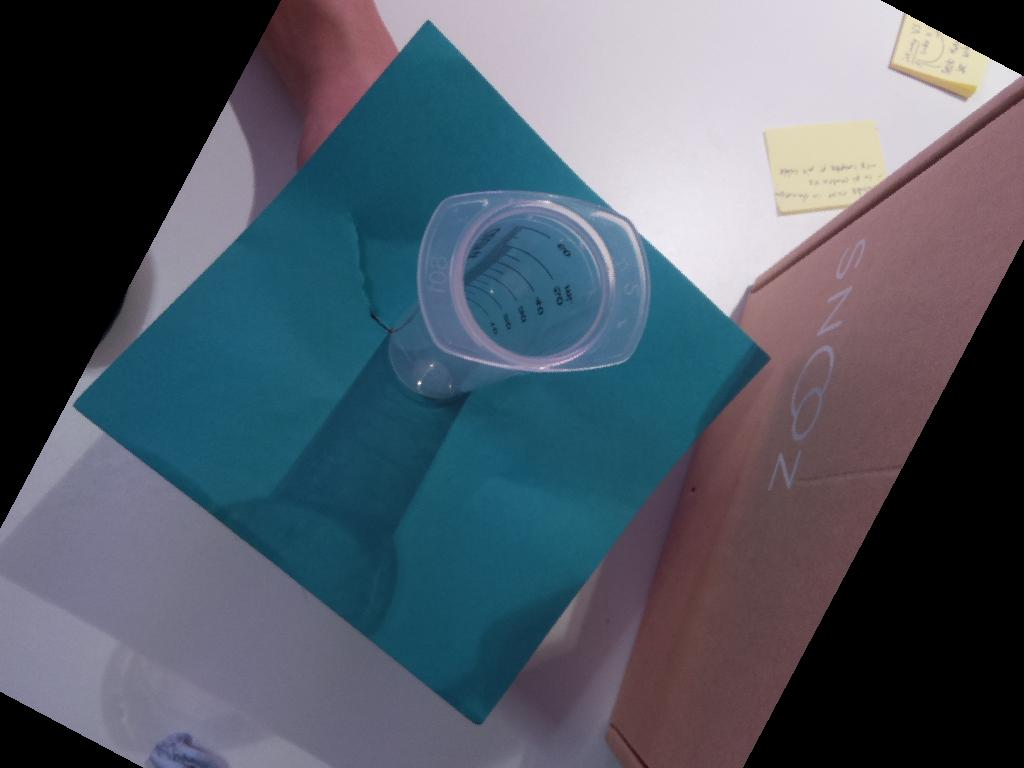clean: (414, 191, 653, 375)
